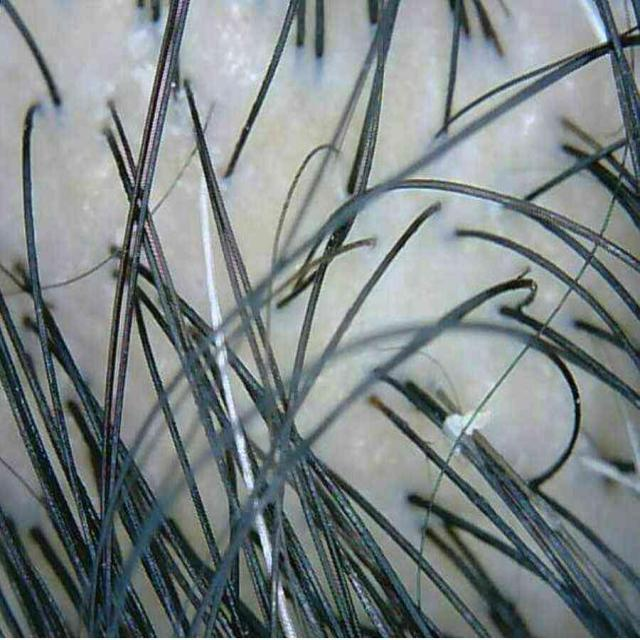d: (442, 410, 490, 440)
